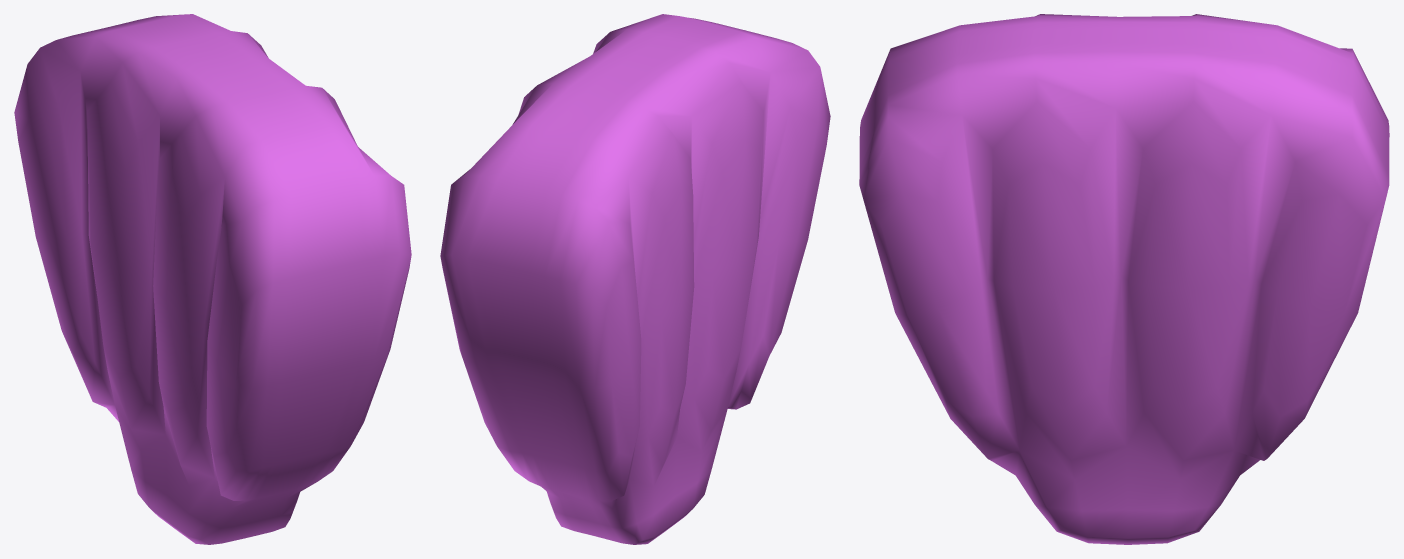
Rendered from SeaShell.fbx.
The picture shows the model from 3 angles, left to right: view 1: azimuth 30°, elevation 25°; view 2: azimuth 150°, elevation 25°; view 3: azimuth 270°, elevation 25°; orthographic projection. The views are drawn at different scales.
Visible parts, largest first — view 1: Cube.001; view 2: Cube.001; view 3: Cube.001.
Part boxes in pixels (<box>): Cube.001: <box>14,14,411,544</box>; Cube.001: <box>440,14,830,544</box>; Cube.001: <box>859,14,1389,544</box>.
Size of the model in its own units: 228 by 90.64 by 232.
